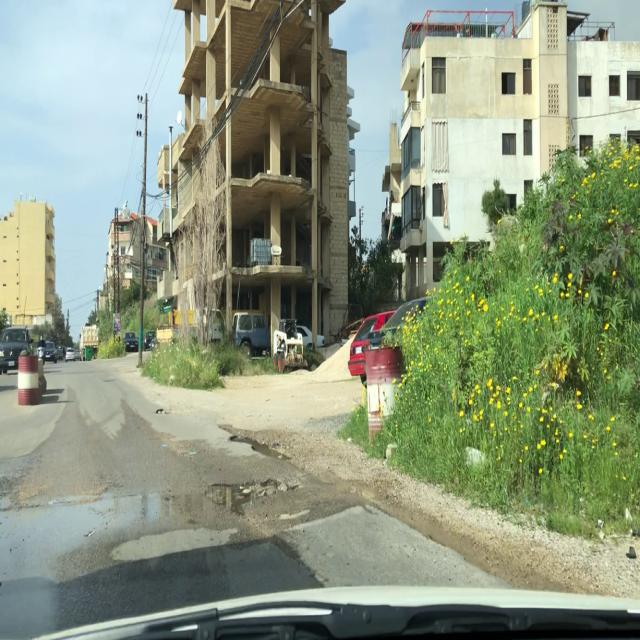Pothole: (204, 476, 300, 513), (228, 434, 292, 465), (154, 407, 173, 417)
